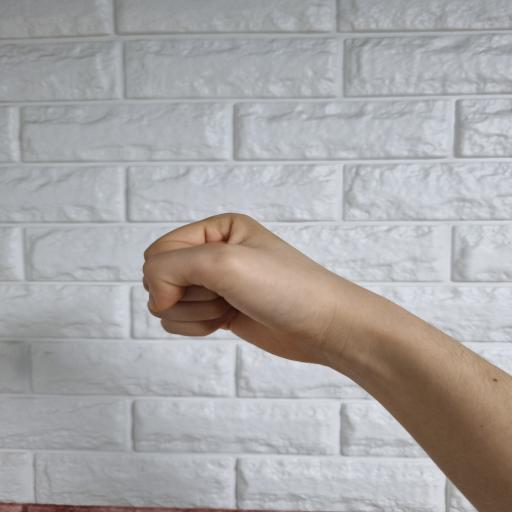Rock: (142, 213, 512, 512)
